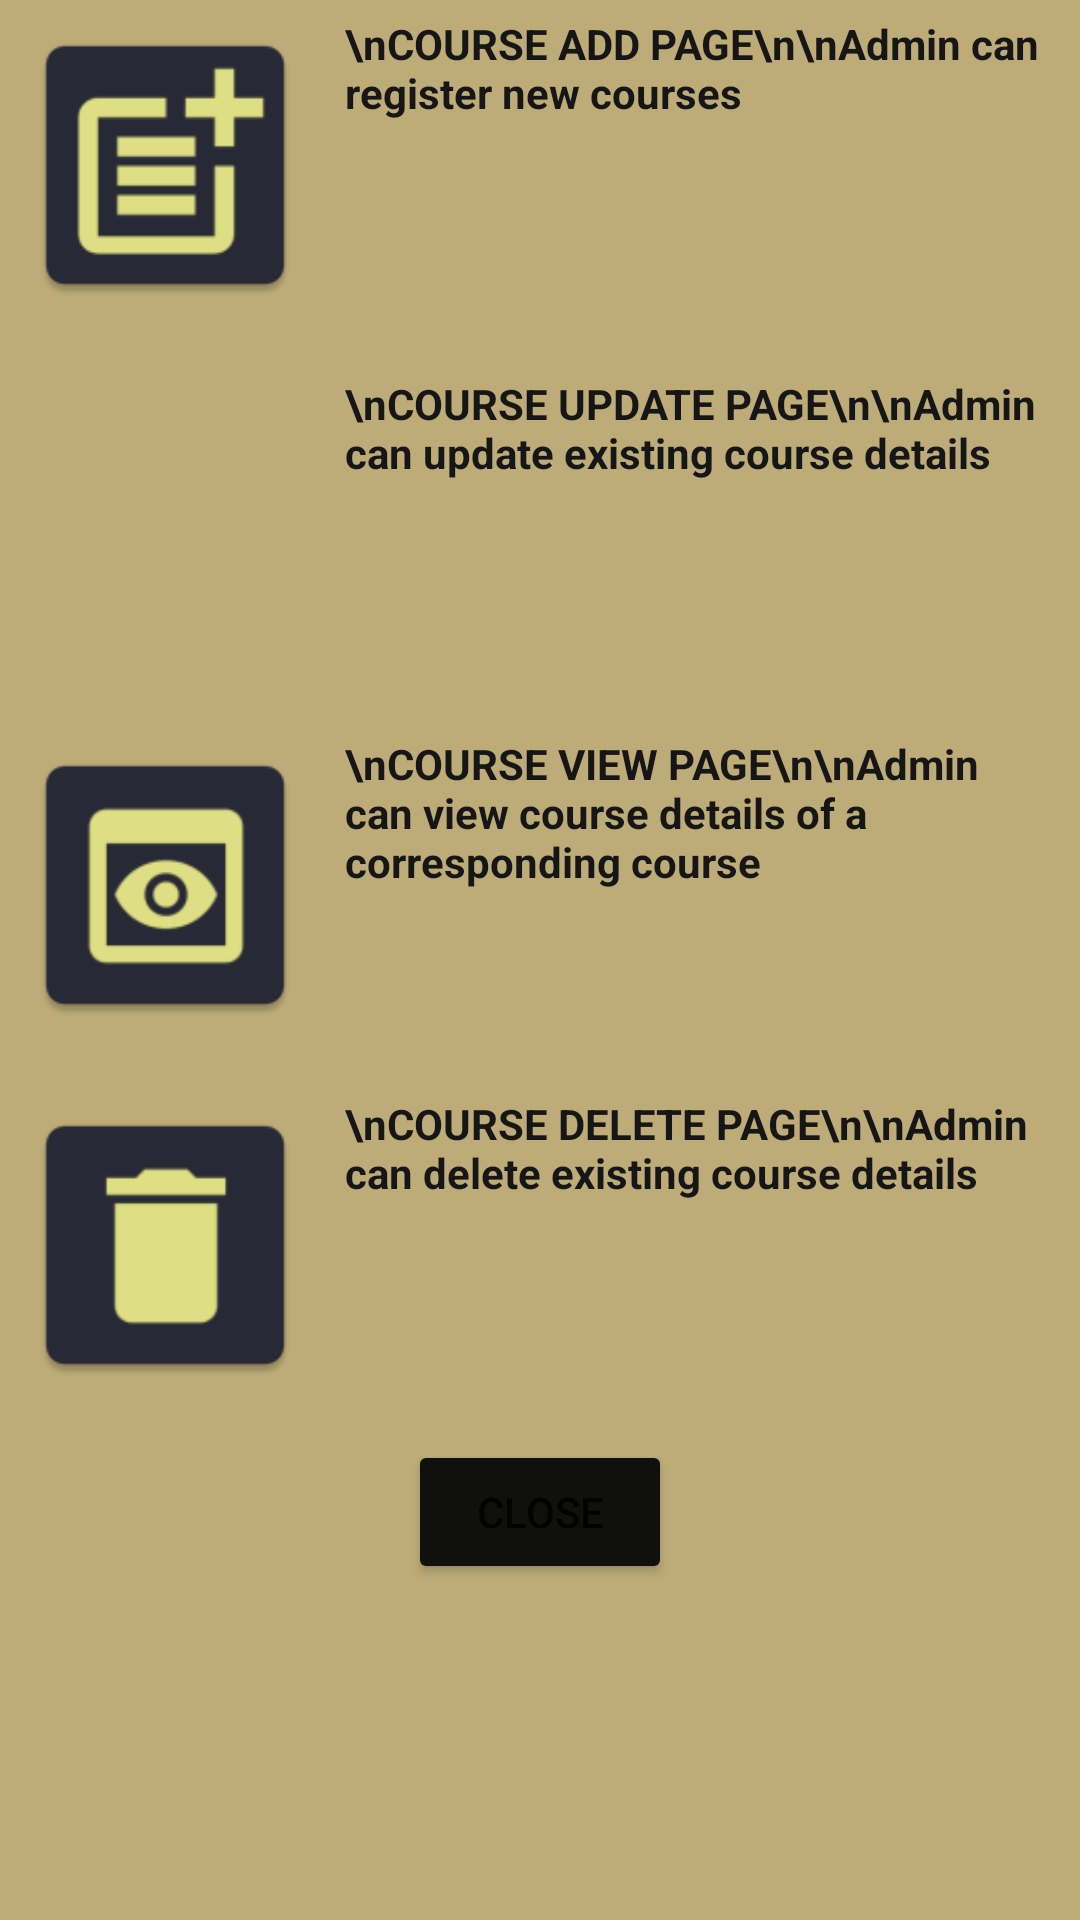

Locate icon controls on the screen. Image size 1080px x 1920px, boxes as (x1, y1, x2, y2).
admin delete: (45, 1125, 286, 1370)
admin rcdadd: (45, 45, 286, 290)
admin view: (45, 765, 286, 1010)
